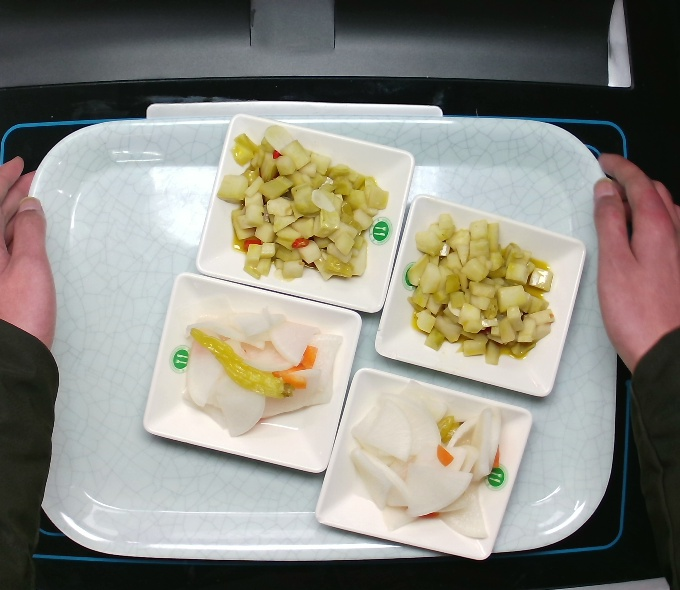wcq-LuLuoBo: (346, 387, 511, 548), (180, 303, 350, 444)
wcq-TangCuOu: (216, 121, 399, 296), (402, 208, 558, 366)
